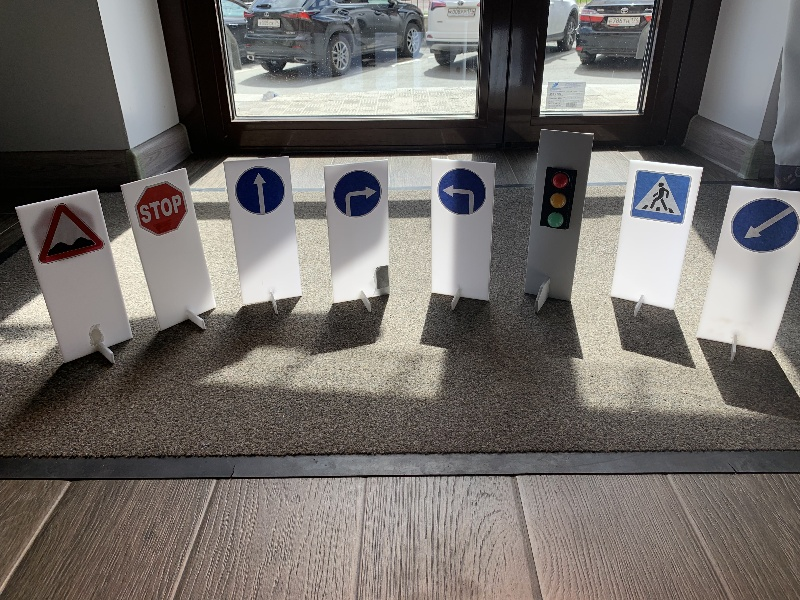Left: (436, 167, 489, 221)
Nerov: (38, 204, 104, 266)
Right: (331, 170, 383, 217)
Stop: (134, 182, 188, 237)
forw: (234, 165, 284, 214)
pesh: (629, 170, 688, 225)
prep: (730, 198, 799, 253)
